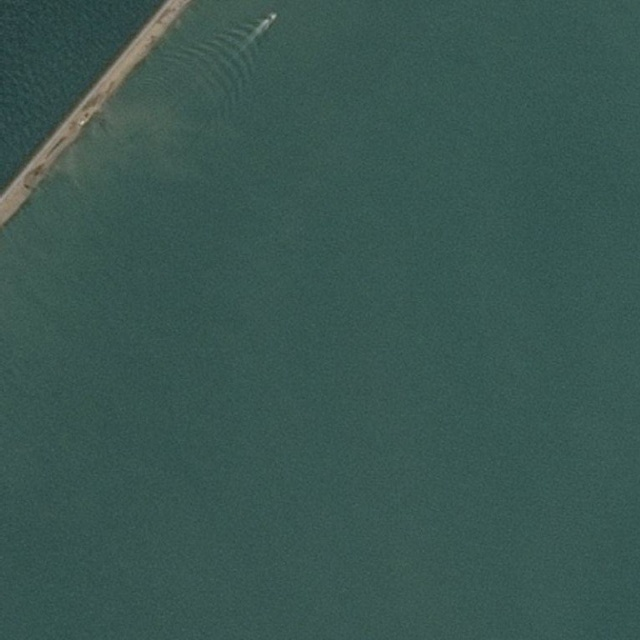wake: (165, 0, 289, 121)
